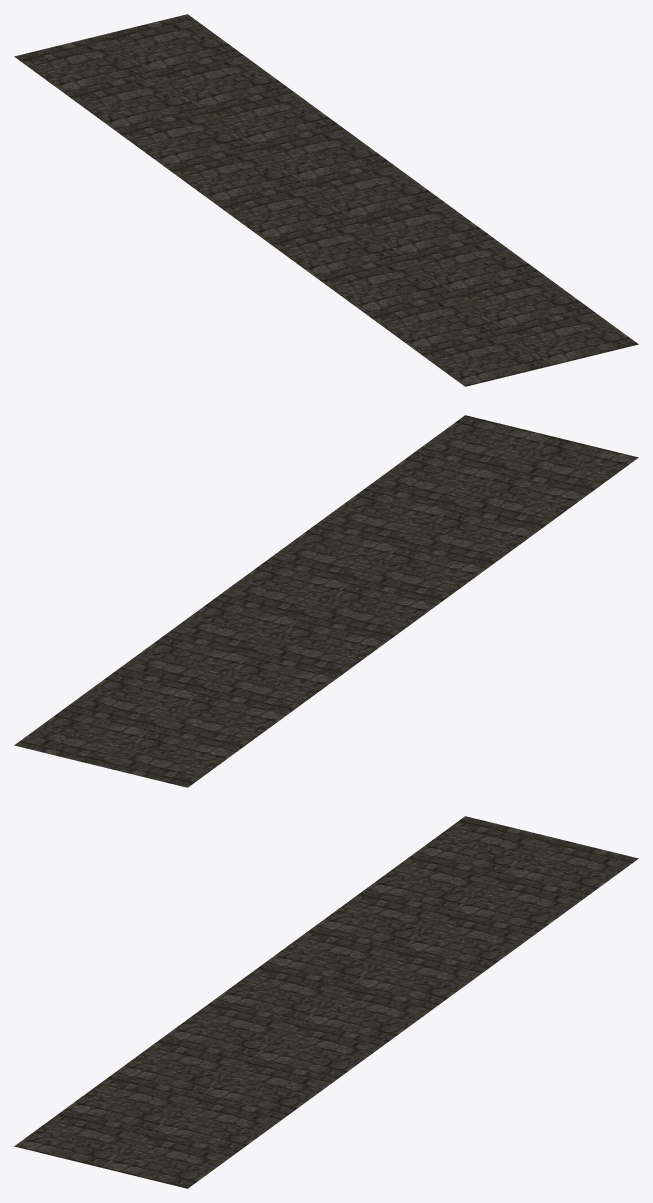
Rendered from B04_Path.fbx.
The picture shows the model from 3 angles, top to bottom: view 1: azimuth 30°, elevation 25°; view 2: azimuth 150°, elevation 25°; view 3: azimuth 330°, elevation 25°; orthographic projection.
Parts seen in each view (by area): view 1: B004.001; view 2: B004.001; view 3: B004.001.
Boxes of the visible parts, x1,y1,x2,y2 form: B004.001: (14, 14, 638, 386); B004.001: (14, 415, 638, 787); B004.001: (14, 816, 638, 1188).
Size of the model in its own units: 2 by 7.11e-15 by 9.
